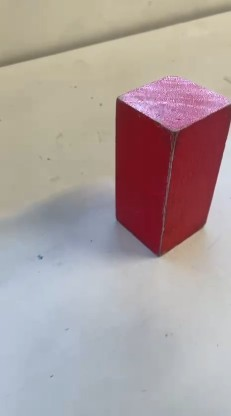red: (115, 69, 209, 239)
